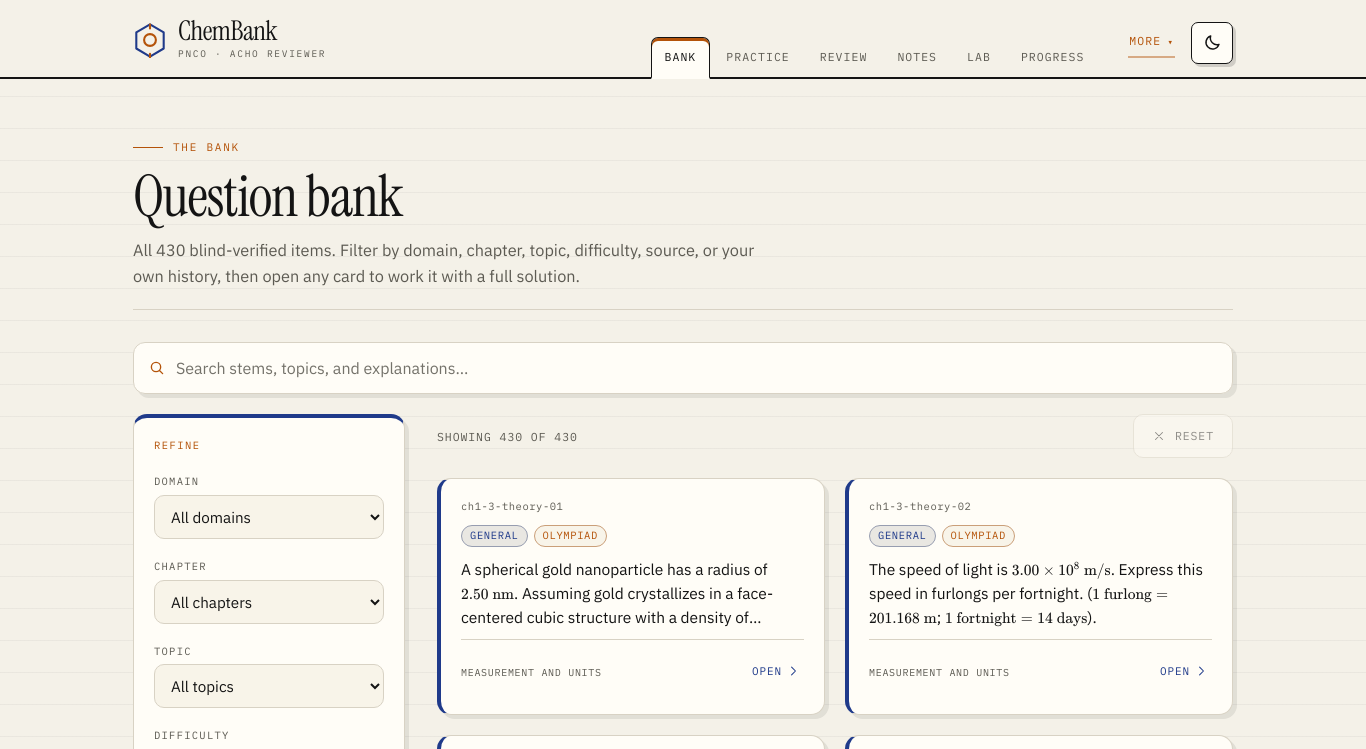
Scenario: an empty result set explains itself
The width and height of the screenshot is (1366, 749).
In the search field named "search questions": (697, 368) top-left (176, 344), bottom-right (1218, 392), type "zzzz-no-match"
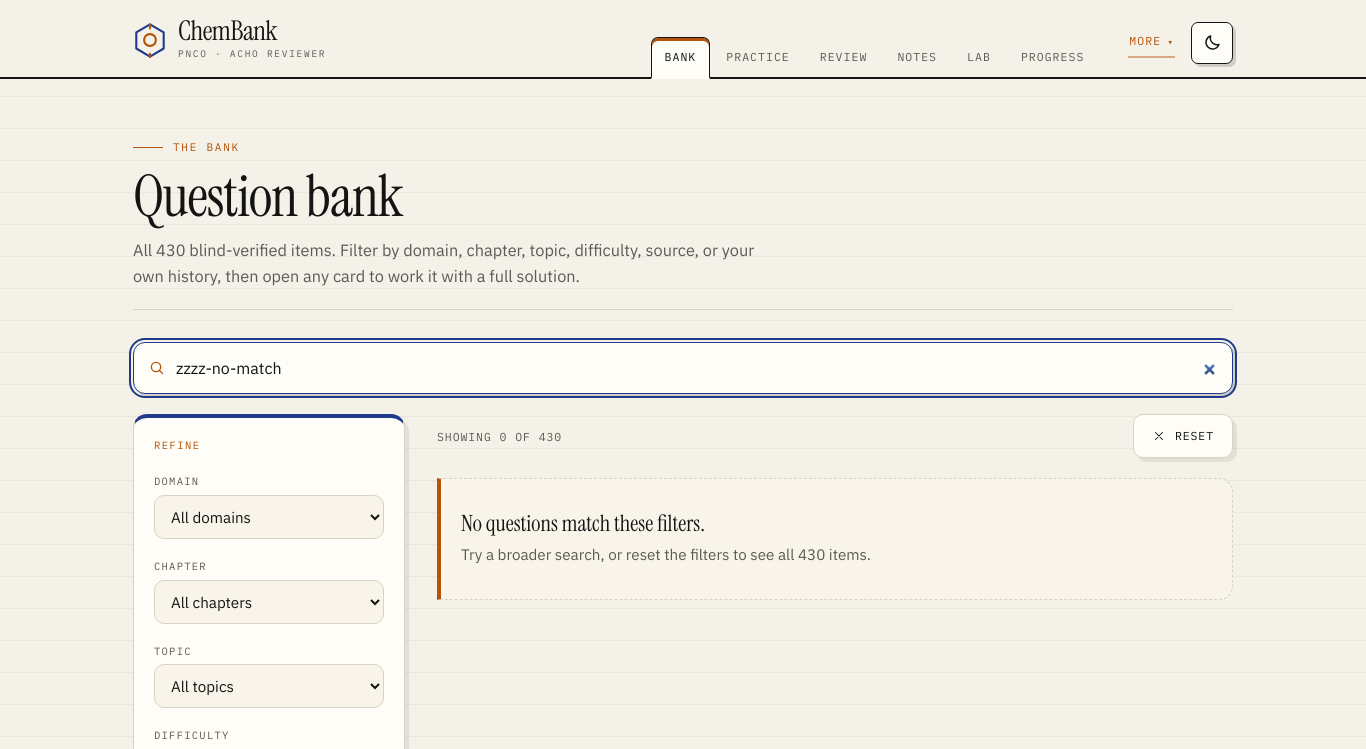
Expected: the text "No questions match these filters." is shown, top-left (461, 510), bottom-right (705, 538)
Expected: no links "Open " are shown
